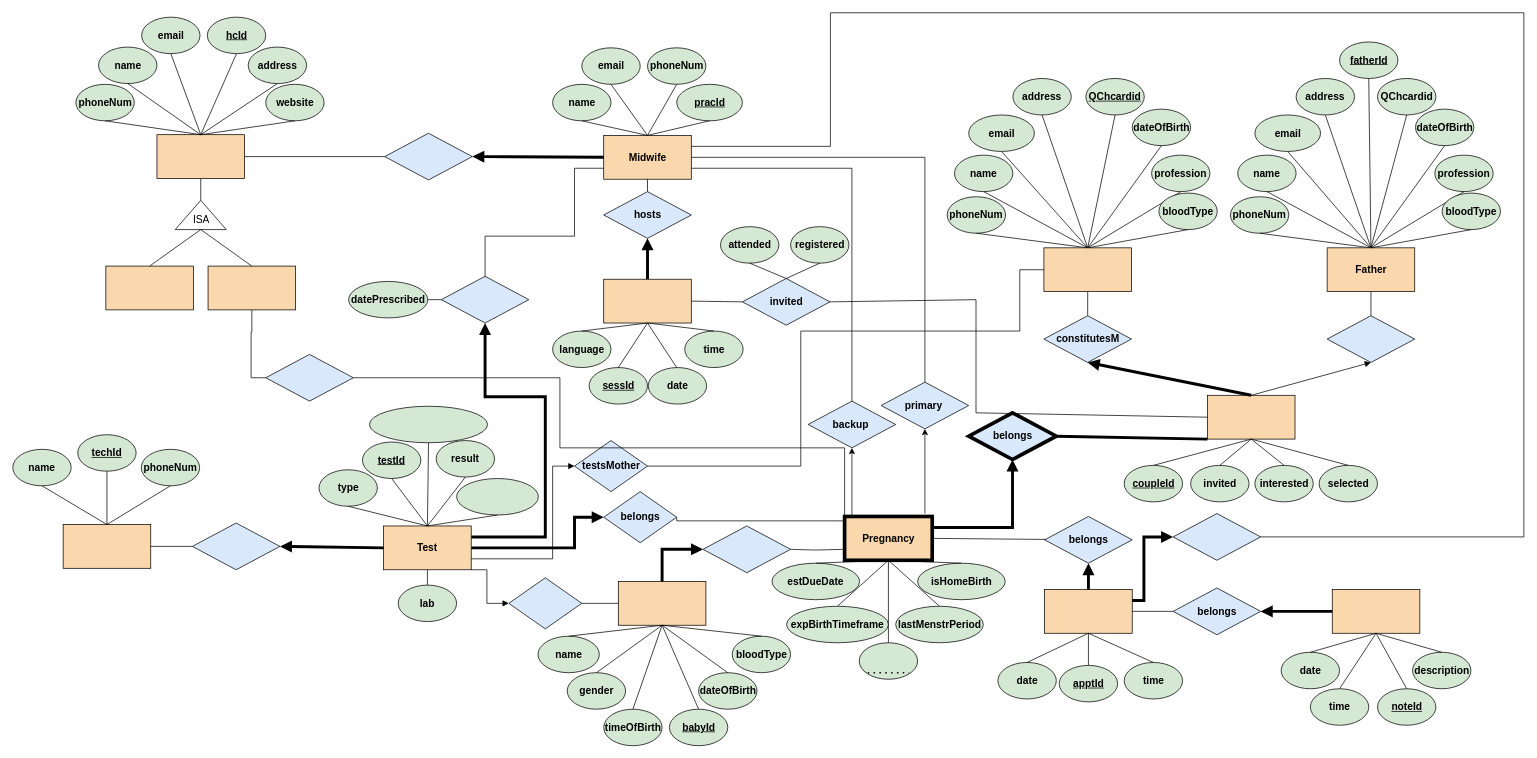
The diagram is 1537 pixels wide and 758 high, and some of its shapes have lost their labels. Each missing label, with the centre of its shape:
"Appointment" goes at (1088,611).
"Baby" goes at (662,603).
"Birthing Center" goes at (251,287).
"born at" goes at (309,377).
"born from" goes at (746,549).
"Community Clinic" goes at (149,287).
"conducts" goes at (236,546).
"constitutesF" goes at (1370,338).
"Couple" goes at (1251,417).
"dateConducted" goes at (497,496).
"dateSampleTaken" goes at (428,424).
"employs" goes at (428,156).
"Healthcare Institution" goes at (200,156).
"Information Session" goes at (647,300).
"Mother" goes at (1087,269).
"Note" goes at (1376,611).
"pregNum" goes at (888,660).
"prescribes" goes at (485,299).
"sets up" goes at (1216,536).
"Technician" goes at (106,546).
"testsBaby" goes at (545,603).
